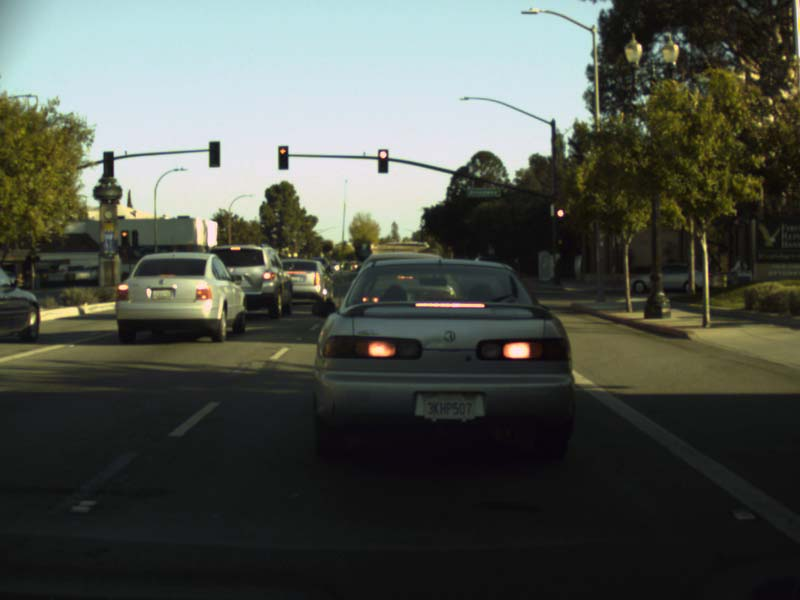Red: (554, 205, 565, 229), (278, 145, 287, 167), (120, 229, 129, 248), (379, 149, 387, 170)
